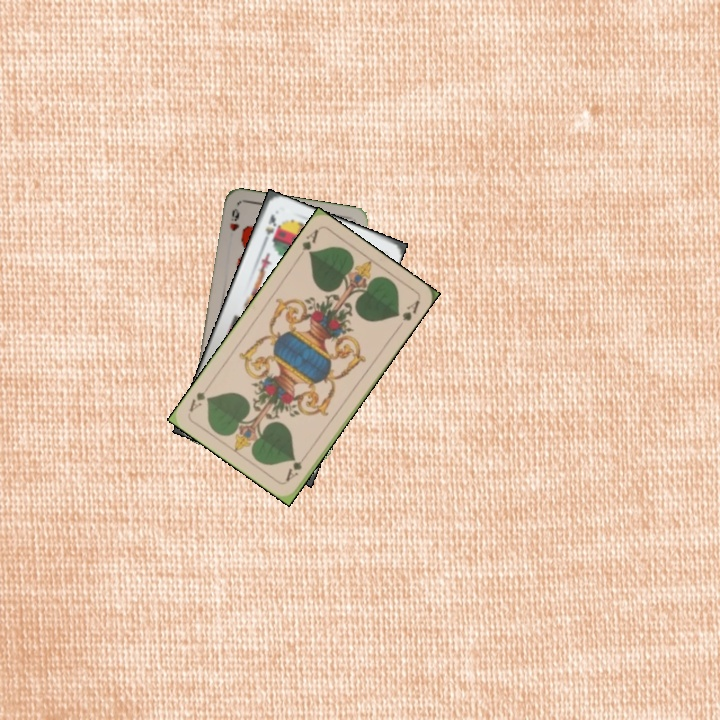GA: (281, 449, 310, 484), (293, 225, 321, 260)
H9: (226, 204, 242, 233)
SK: (258, 210, 279, 248)
